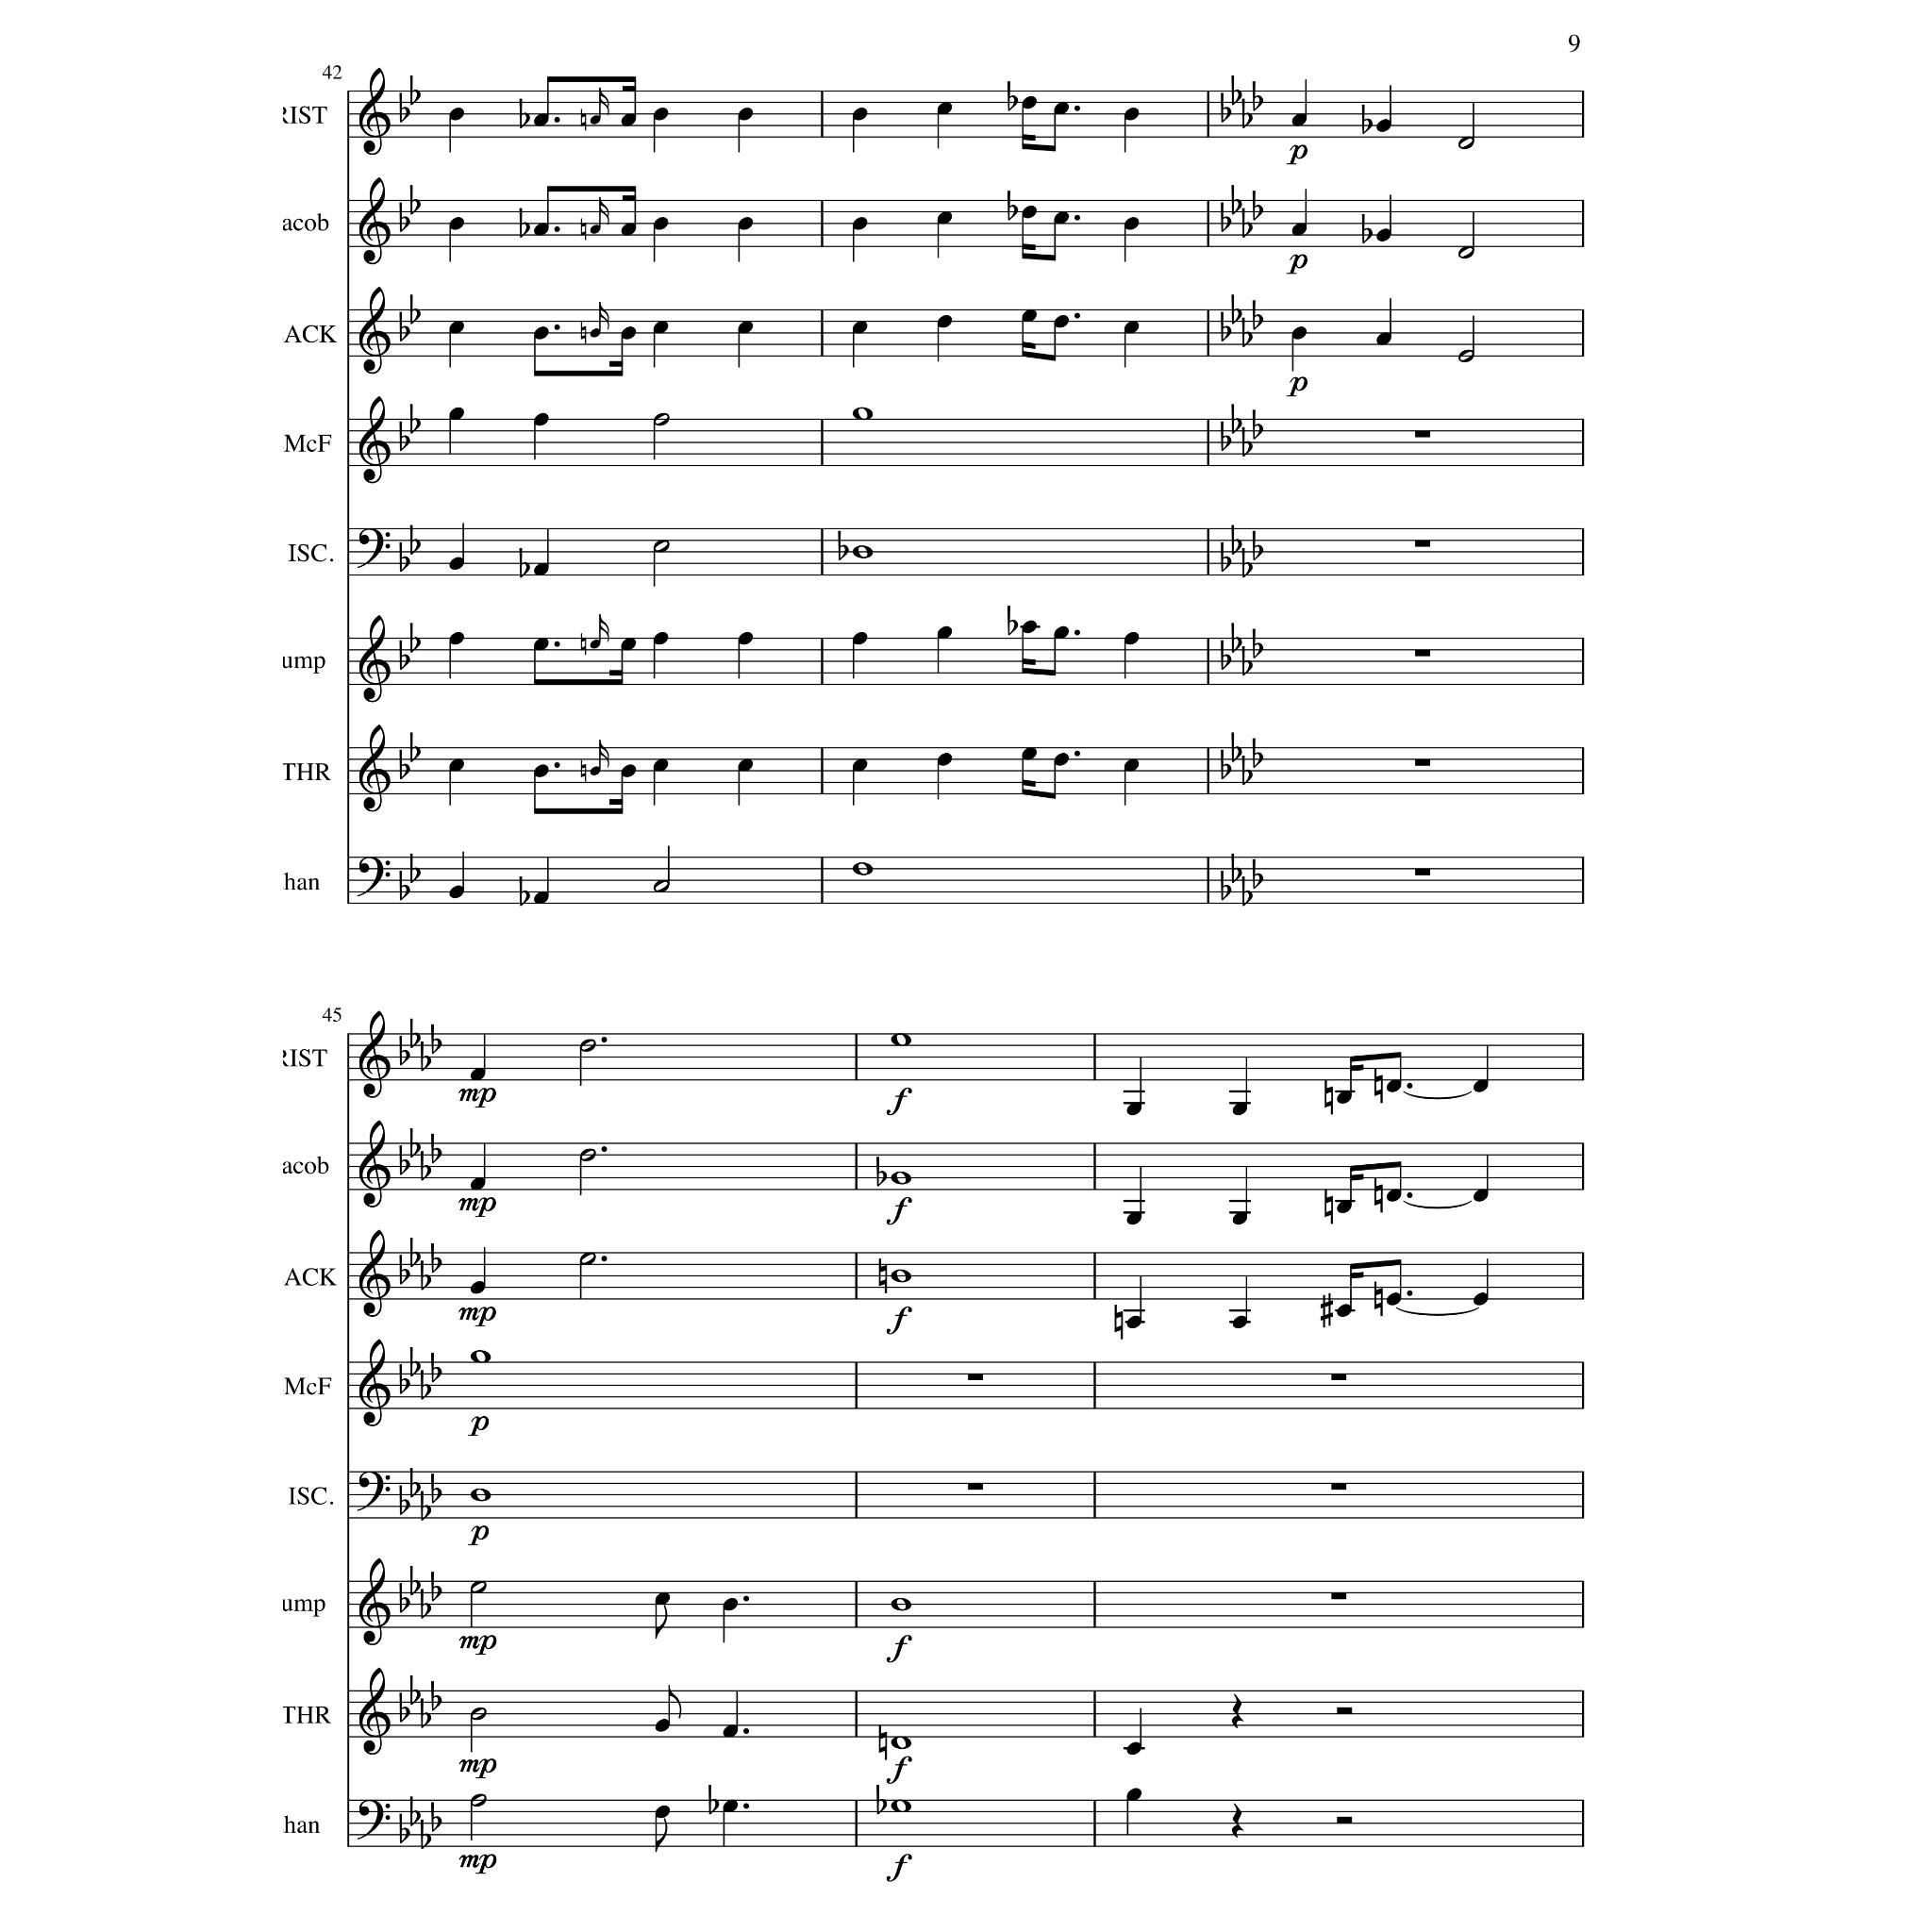fClef: (357, 528, 391, 570), (357, 857, 391, 898), (357, 1800, 391, 1840), (357, 1472, 391, 1511)
flag16thUp: (600, 196, 609, 226), (600, 614, 609, 642), (600, 741, 609, 769), (600, 88, 609, 116), (600, 302, 609, 330)
flag8thDown: (655, 1818, 668, 1852), (655, 1605, 668, 1639)
flag8thUp: (669, 1685, 682, 1719)
gClef: (358, 176, 391, 265), (358, 67, 391, 156), (358, 286, 391, 375), (358, 396, 391, 485), (358, 724, 391, 813), (358, 615, 391, 704), (358, 1120, 391, 1208), (358, 1010, 391, 1099), (358, 1557, 391, 1646), (358, 1667, 391, 1756), (358, 1339, 391, 1427), (358, 1229, 391, 1318)
noteheadBlack: (532, 562, 549, 577), (1336, 1200, 1353, 1215), (1376, 119, 1391, 134), (1376, 228, 1391, 243), (449, 885, 464, 900), (1126, 1787, 1141, 1802), (1021, 747, 1038, 760), (1021, 96, 1038, 109), (1021, 206, 1038, 219), (1021, 309, 1038, 323), (1021, 621, 1038, 634), (1053, 626, 1070, 640), (1053, 102, 1070, 115), (1053, 211, 1070, 225), (1053, 315, 1070, 328), (1053, 753, 1070, 766), (936, 211, 953, 225), (936, 315, 953, 328), (936, 626, 953, 640), (936, 753, 953, 766), (936, 102, 953, 115), (1291, 113, 1307, 126), (1291, 223, 1307, 236), (1291, 326, 1307, 340), (1123, 632, 1140, 645), (1123, 108, 1140, 121), (1123, 217, 1140, 230), (1123, 321, 1140, 334), (1123, 758, 1140, 772), (532, 223, 549, 236), (532, 326, 549, 340), (532, 413, 549, 426), (532, 638, 549, 651), (532, 765, 549, 778), (532, 891, 549, 905), (532, 113, 549, 126), (851, 108, 868, 121), (851, 217, 868, 230), (851, 321, 868, 334), (851, 632, 868, 645), (851, 758, 868, 772), (1336, 1304, 1353, 1317), (1336, 1091, 1353, 1104), (1376, 333, 1391, 346), (449, 108, 464, 121), (449, 217, 464, 230), (449, 321, 464, 334), (449, 408, 464, 421), (449, 558, 464, 571), (449, 632, 464, 645), (449, 758, 464, 772), (738, 108, 753, 121), (738, 217, 753, 230), (738, 321, 753, 334), (653, 758, 668, 772), (738, 632, 753, 645), (738, 758, 753, 772), (653, 632, 668, 645), (621, 113, 636, 126), (621, 223, 636, 236), (621, 326, 636, 340), (653, 108, 668, 121), (653, 217, 668, 230), (653, 321, 668, 334), (621, 638, 636, 651), (621, 765, 636, 778), (1232, 1316, 1247, 1329), (1232, 1102, 1247, 1115), (1232, 1212, 1247, 1225), (1126, 1741, 1141, 1755), (1126, 1316, 1141, 1329), (1126, 1212, 1141, 1225), (1126, 1102, 1141, 1115), (1386, 1292, 1401, 1306), (1386, 1189, 1401, 1202), (1386, 1079, 1401, 1092), (1474, 1292, 1489, 1306), (1474, 1189, 1489, 1202), (1474, 1079, 1489, 1092), (470, 1281, 485, 1294), (470, 1177, 485, 1191), (470, 1068, 485, 1081), (723, 1800, 738, 1813), (723, 1724, 738, 1738), (723, 1598, 738, 1611), (655, 1806, 670, 1819), (655, 1719, 670, 1732), (655, 1592, 670, 1606), (589, 115, 600, 125), (589, 767, 600, 776), (589, 225, 600, 234), (589, 640, 600, 649), (589, 328, 600, 338)
noteheadHalf: (1457, 350, 1474, 363), (1457, 137, 1474, 150), (1457, 246, 1474, 259), (653, 413, 670, 426), (653, 540, 670, 553), (653, 880, 670, 893), (470, 1793, 487, 1807), (470, 1707, 487, 1721), (470, 1581, 487, 1594), (579, 1252, 596, 1265), (579, 1149, 596, 1162), (579, 1040, 596, 1053)
noteheadWhole: (891, 1032, 911, 1047), (851, 408, 874, 421), (851, 545, 874, 558), (851, 862, 874, 875), (470, 1489, 491, 1502), (470, 1350, 491, 1363), (891, 1800, 911, 1813), (891, 1736, 911, 1749), (891, 1598, 911, 1611), (891, 1270, 911, 1283), (891, 1172, 911, 1185)
restHalf: (1336, 1816, 1353, 1824), (1336, 1707, 1353, 1714)
restQuarter: (1232, 1803, 1243, 1839), (1232, 1693, 1243, 1729)
restWhole: (1330, 1592, 1347, 1600), (1330, 1483, 1347, 1491), (1330, 1374, 1347, 1381), (1415, 650, 1430, 658), (1415, 759, 1430, 767), (1415, 869, 1430, 876), (1415, 541, 1430, 548), (1415, 431, 1430, 439), (968, 1374, 983, 1381), (968, 1483, 983, 1491)
